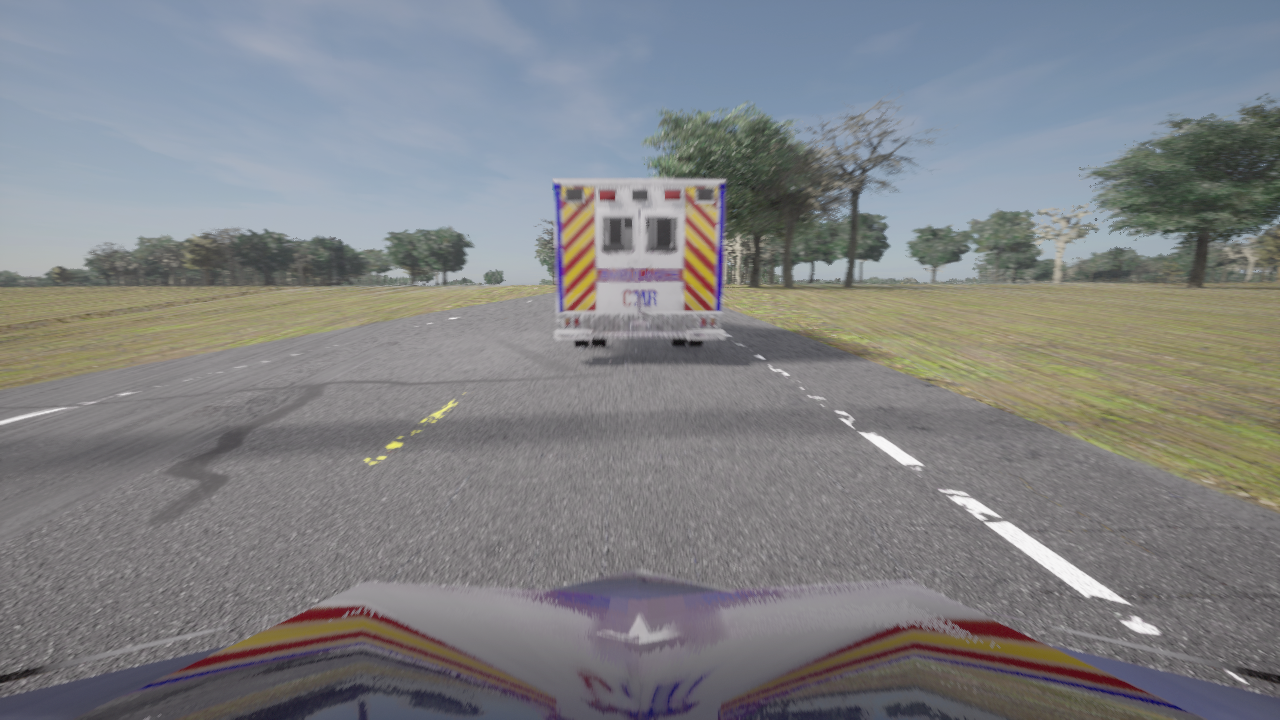cyclist: (0, 569, 1279, 719), (554, 179, 726, 347), (553, 263, 556, 271)
